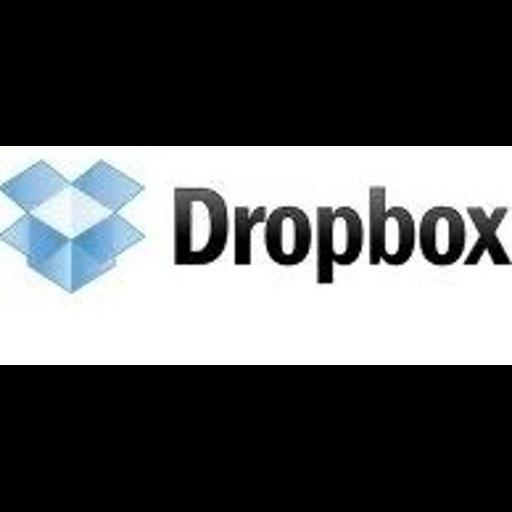Dropbox: (0, 146, 512, 365)
